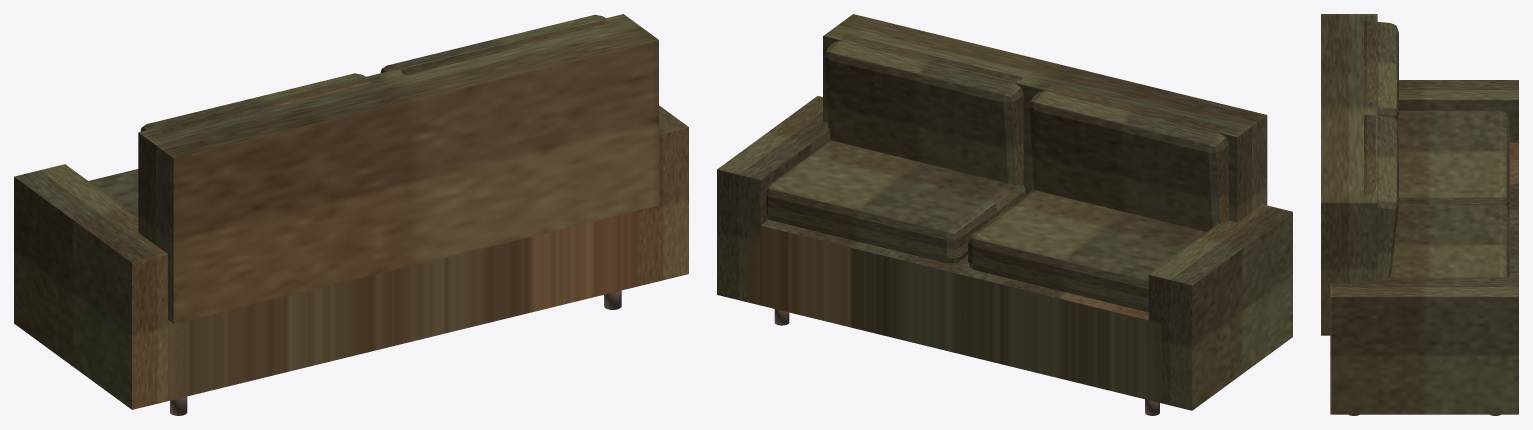
The model's file is WK_FUR_PorchCouch.glb.
The picture shows the model from 3 angles, left to right: view 1: azimuth 30°, elevation 25°; view 2: azimuth 150°, elevation 25°; view 3: azimuth 270°, elevation 25°; orthographic projection. The views are drawn at different scales.
Visible parts, largest first — view 1: WK_FUR_PorchCouch_P04, WK_FUR_PorchCouch_P01, WK_FUR_PorchCouch_P07, WK_FUR_PorchCouch_P08, WK_FUR_PorchCouch_P05, WK_FUR_PorchCouch_P06, WK_FUR_PorchCouch_P02; view 2: WK_FUR_PorchCouch_P01, WK_FUR_PorchCouch_P07, WK_FUR_PorchCouch_P06, WK_FUR_PorchCouch_P05, WK_FUR_PorchCouch_P03, WK_FUR_PorchCouch_P02, WK_FUR_PorchCouch_P04, WK_FUR_PorchCouch_P08; view 3: WK_FUR_PorchCouch_P08, WK_FUR_PorchCouch_P04, WK_FUR_PorchCouch_P02, WK_FUR_PorchCouch_P03, WK_FUR_PorchCouch_P06, WK_FUR_PorchCouch_P07, WK_FUR_PorchCouch_P05, WK_FUR_PorchCouch_P01.
Boxes of the visible parts, <box> form: WK_FUR_PorchCouch_P04: <box>138,14,658,323</box>; WK_FUR_PorchCouch_P01: <box>168,211,637,400</box>; WK_FUR_PorchCouch_P07: <box>14,164,182,409</box>; WK_FUR_PorchCouch_P08: <box>637,105,688,286</box>; WK_FUR_PorchCouch_P05: <box>140,73,371,133</box>; WK_FUR_PorchCouch_P06: <box>380,14,612,74</box>; WK_FUR_PorchCouch_P02: <box>88,169,138,217</box>; WK_FUR_PorchCouch_P01: <box>747,220,1161,403</box>; WK_FUR_PorchCouch_P07: <box>1148,204,1292,410</box>; WK_FUR_PorchCouch_P06: <box>824,35,1023,185</box>; WK_FUR_PorchCouch_P05: <box>1029,85,1228,231</box>; WK_FUR_PorchCouch_P03: <box>766,140,1025,263</box>; WK_FUR_PorchCouch_P02: <box>968,189,1206,312</box>; WK_FUR_PorchCouch_P04: <box>823,14,1267,222</box>; WK_FUR_PorchCouch_P08: <box>717,96,830,303</box>; WK_FUR_PorchCouch_P08: <box>1330,277,1518,414</box>; WK_FUR_PorchCouch_P04: <box>1321,14,1377,335</box>; WK_FUR_PorchCouch_P02: <box>1397,110,1509,212</box>; WK_FUR_PorchCouch_P03: <box>1391,204,1509,277</box>; WK_FUR_PorchCouch_P06: <box>1364,114,1398,279</box>; WK_FUR_PorchCouch_P07: <box>1399,80,1518,142</box>; WK_FUR_PorchCouch_P05: <box>1364,21,1398,121</box>; WK_FUR_PorchCouch_P01: <box>1509,142,1518,277</box>.
Size of the model in its own units: 2.18 by 1.03 by 0.84.
Materials: 2 (1 with a texture image).
